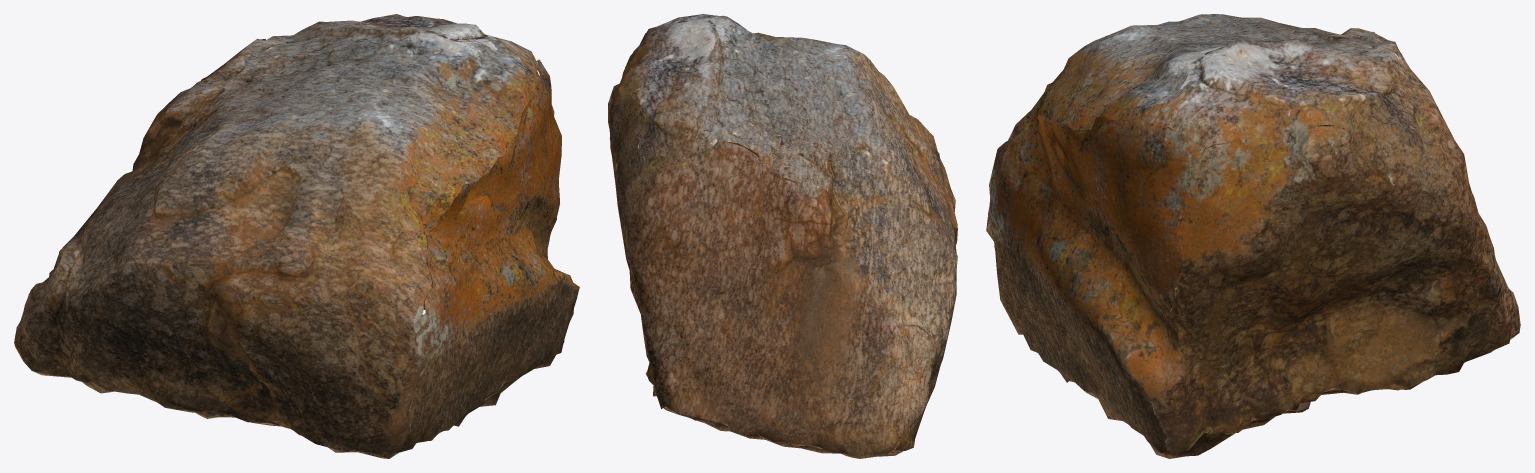
Rendered from kf_boulder_b.glb.
3 renders of one model, left to right at view 1: azimuth 30°, elevation 25°; view 2: azimuth 150°, elevation 25°; view 3: azimuth 270°, elevation 25°, orthographic. The views are drawn at different scales.
Parts seen in each view (by area): view 1: boulder_04; view 2: boulder_04; view 3: boulder_04.
Part boxes in pixels (<box>): boulder_04: <box>14,14,579,458</box>; boulder_04: <box>608,14,957,458</box>; boulder_04: <box>986,14,1520,458</box>.
Size of what is drawn, in the model's own units: 2.52 by 1.9 by 2.5.
Materials: 1 (1 with a texture image).
